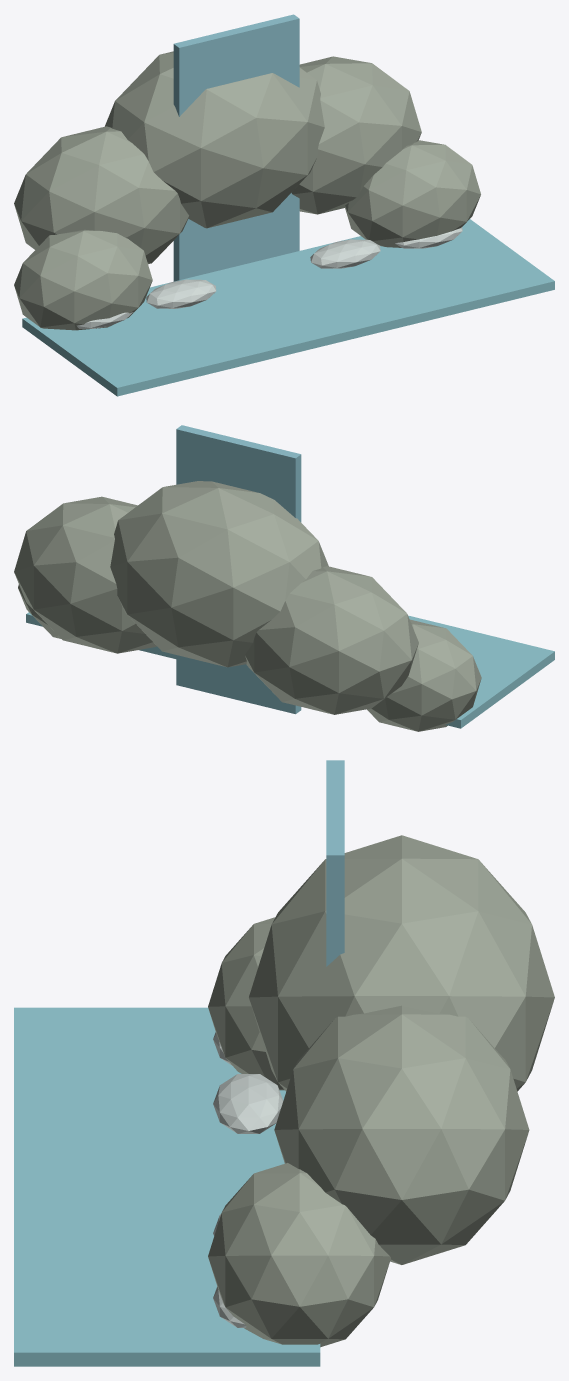
File: waterfall_cliff.glb
3 views of the same model, one above another, from view 1: azimuth 30°, elevation 25°; view 2: azimuth 150°, elevation 25°; view 3: azimuth 270°, elevation 25° (orthographic). The views are drawn at different scales.
Visible parts, largest first — view 1: pool, rock1, rock0, waterfall, rock2, rock3, rock4, foam2, foam1, foam3; view 2: rock1, rock0, rock2, waterfall, rock3, pool; view 3: pool, rock2, rock1, rock4, rock3, waterfall, foam1.
Boxes of the visible parts, bbox=[...] form: pool: bbox=[22, 219, 554, 396]; rock1: bbox=[105, 51, 324, 228]; rock0: bbox=[14, 126, 188, 264]; waterfall: bbox=[173, 14, 299, 281]; rock2: bbox=[291, 56, 421, 214]; rock3: bbox=[14, 230, 152, 330]; rock4: bbox=[345, 140, 480, 247]; foam2: bbox=[310, 239, 380, 268]; foam1: bbox=[146, 279, 216, 308]; foam3: bbox=[395, 227, 462, 248]; rock1: bbox=[110, 481, 328, 667]; rock0: bbox=[245, 566, 418, 714]; rock2: bbox=[14, 496, 156, 653]; waterfall: bbox=[176, 425, 301, 714]; rock3: bbox=[367, 619, 481, 731]; pool: bbox=[26, 612, 554, 728]; pool: bbox=[14, 1007, 320, 1366]; rock2: bbox=[274, 1005, 529, 1264]; rock1: bbox=[249, 835, 554, 1091]; rock4: bbox=[208, 1163, 390, 1347]; rock3: bbox=[208, 917, 284, 1090]; waterfall: bbox=[326, 760, 344, 966]; foam1: bbox=[213, 1074, 283, 1133].
Size of the model in its own units: 8.34 by 4.5 by 5.3.
